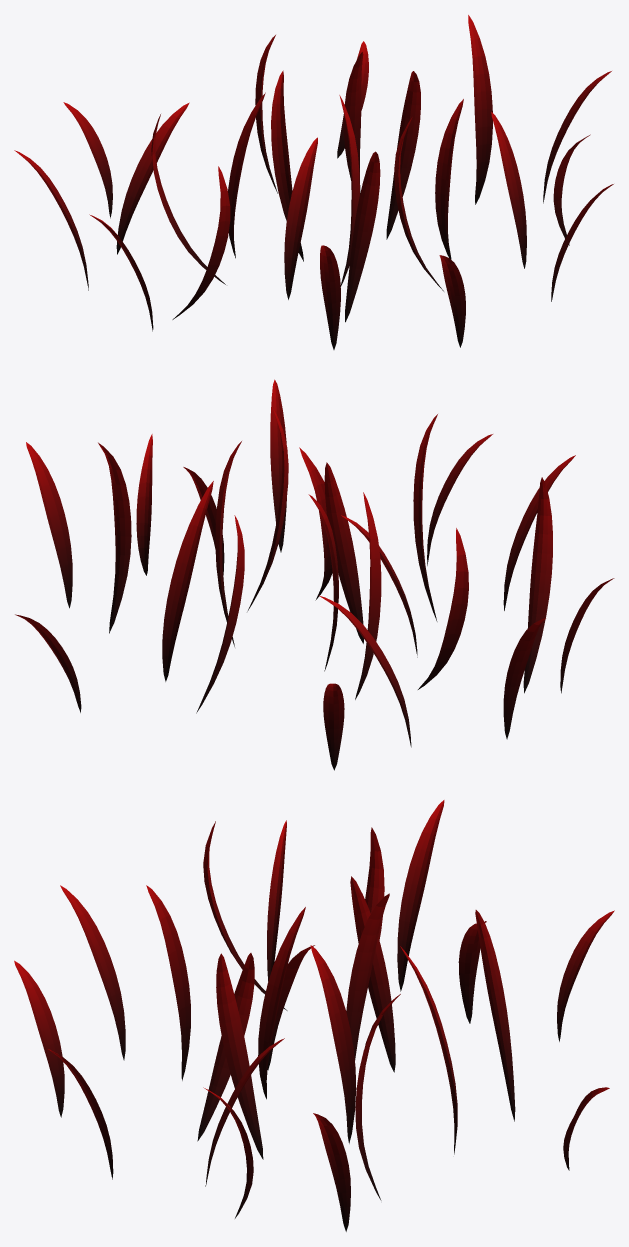
The model's file is pasto.fbx.
The picture shows the model from 3 angles, top to bottom: view 1: azimuth 30°, elevation 25°; view 2: azimuth 150°, elevation 25°; view 3: azimuth 270°, elevation 25°; orthographic projection. The views are drawn at different scales.
Visible parts, largest first — view 1: Pasto; view 2: Pasto; view 3: Pasto.
Boxes of the visible parts, x1,y1,x2,y2 form: Pasto: (14,15,613,349); Pasto: (15,379,614,770); Pasto: (14,800,614,1231).
Bounding box in the file's own units: 3.32 × 1.09 × 2.8.
